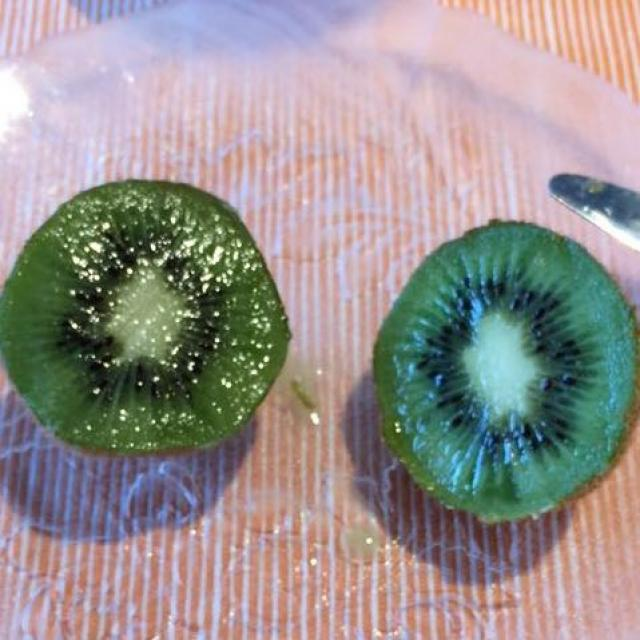kiwi: (12, 187, 638, 546)
